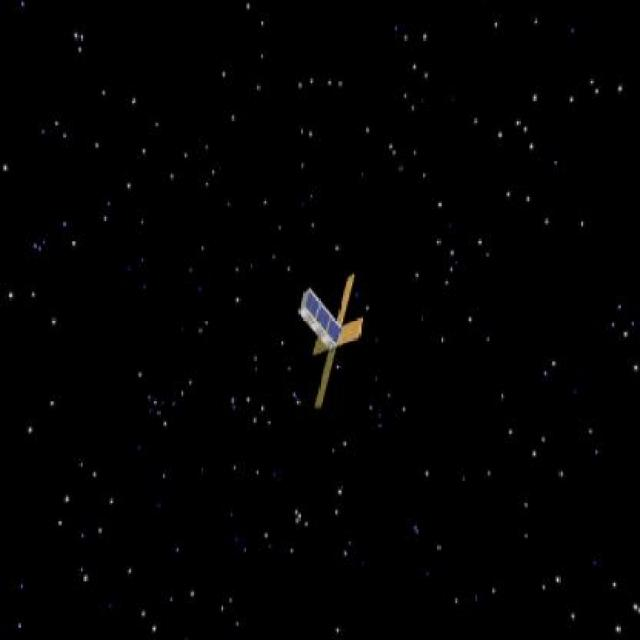medium_debris: (286, 270, 391, 418)
